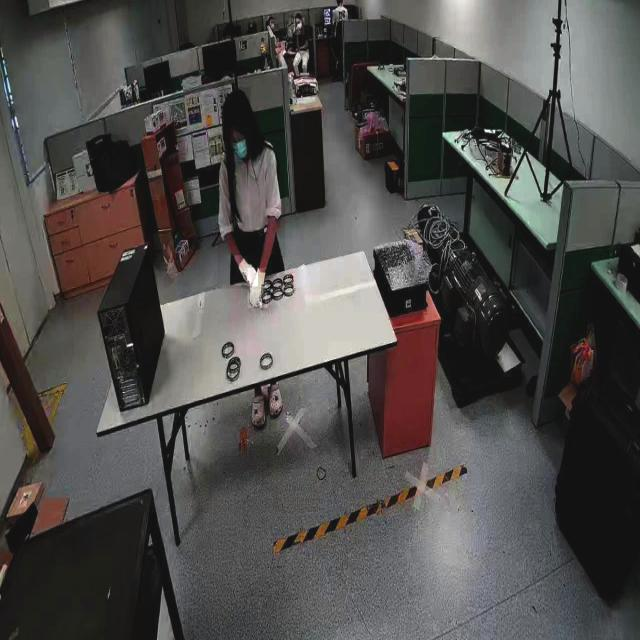face_mask: (226, 126, 252, 162), (294, 18, 304, 34)
hand_glove: (248, 268, 268, 308), (234, 255, 258, 286)
head_nohelmet: (221, 87, 251, 120), (294, 10, 302, 18)
person: (218, 74, 286, 290), (290, 12, 316, 90)
